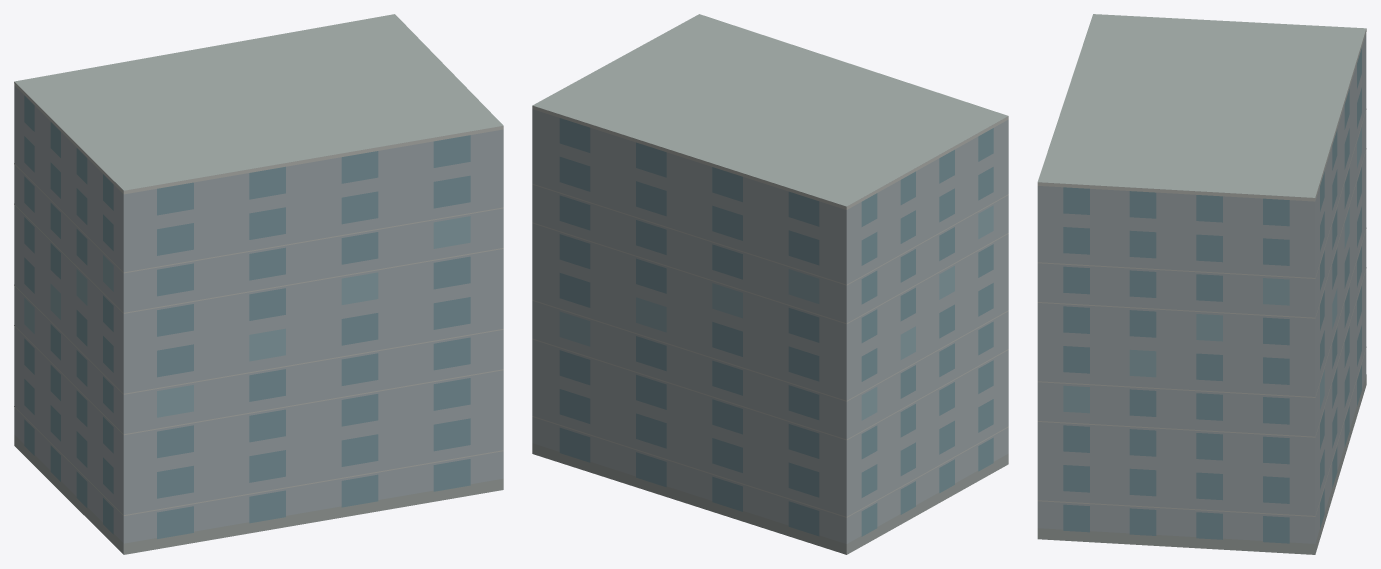
Rendered from residential-ad58ffce-71ee-4810-b33c-a2443a7d8778.glb.
3 views of the same model, side by side, from view 1: azimuth 30°, elevation 25°; view 2: azimuth 150°, elevation 25°; view 3: azimuth 270°, elevation 25° (orthographic). The views are drawn at different scales.
Visible parts, largest first — view 1: residential-ad58ffce-71ee-4810-b33c-a2443a7d8778.tmp; view 2: residential-ad58ffce-71ee-4810-b33c-a2443a7d8778.tmp; view 3: residential-ad58ffce-71ee-4810-b33c-a2443a7d8778.tmp.
Part boxes in pixels (x1,y1,x2,y2): residential-ad58ffce-71ee-4810-b33c-a2443a7d8778.tmp: (14,14,503,554); residential-ad58ffce-71ee-4810-b33c-a2443a7d8778.tmp: (532,14,1008,554); residential-ad58ffce-71ee-4810-b33c-a2443a7d8778.tmp: (1037,14,1366,554).
Size of the model in its own units: 26.55 by 24 by 20.07.
